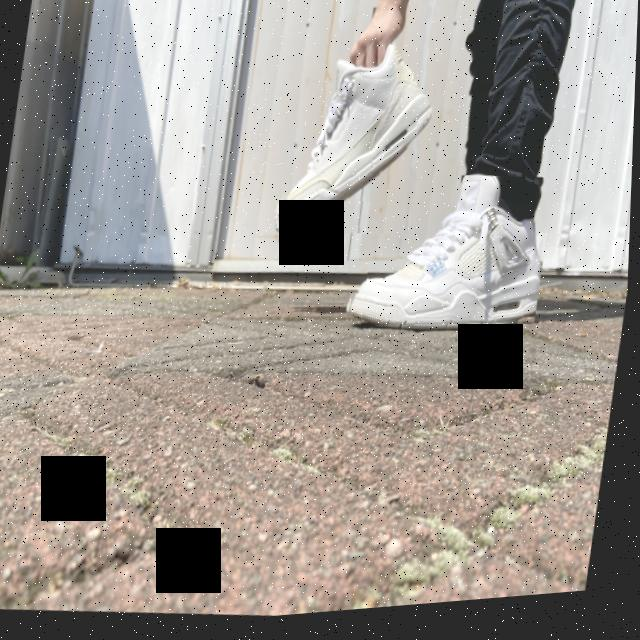shoe: (345, 166, 557, 352), (272, 44, 441, 251)
